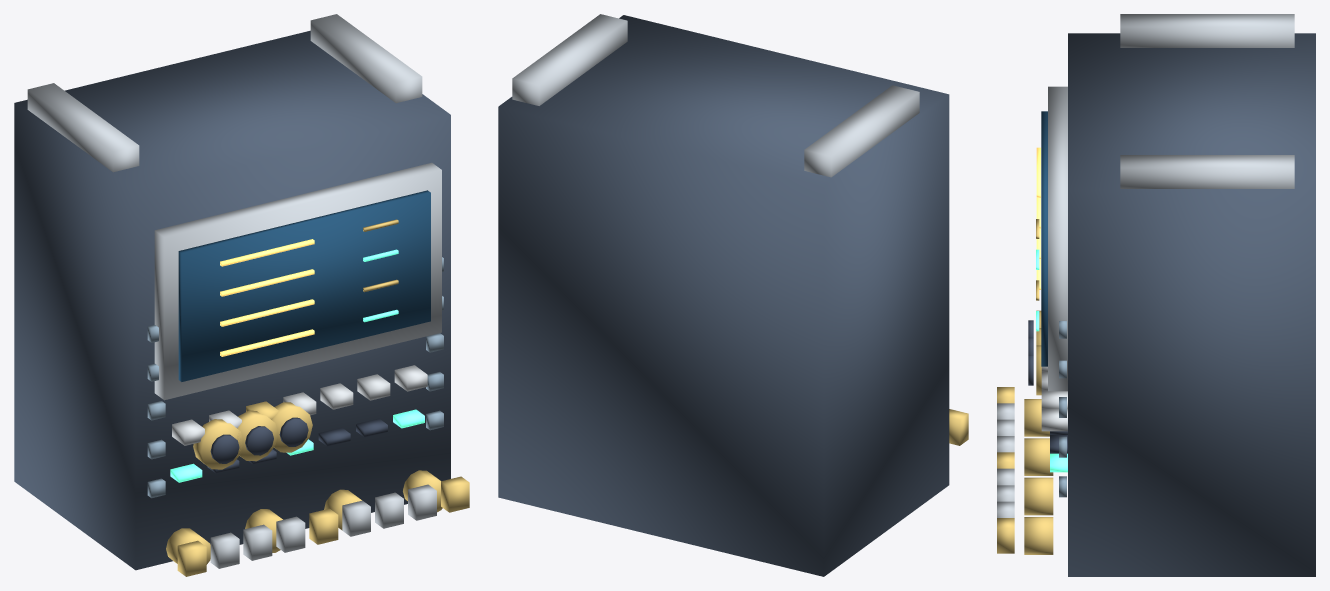
Rendered from 69_L85_CriticalClosingRateFeedbackStation.glb.
3 renders of one model, left to right at view 1: azimuth 30°, elevation 25°; view 2: azimuth 150°, elevation 25°; view 3: azimuth 270°, elevation 25°, orthographic. The views are drawn at different scales.
Parts seen in each view (by area): view 1: L85_CriticalClosingRateFeedba_Part_0000, L85_CriticalClosingRateFeedba_Part_0001, L85_CriticalClosingRateFeedba_Part_0002, L85_CriticalClosingRateFeedba_Part_0004, L85_CriticalClosingRateFeedba_Part_0006, L85_CriticalClosingRateFeedba_Part_0003, L85_CriticalClosingRateFeedba_Part_0008, L85_CriticalClosingRateFeedba_Part_0005, L85_CriticalClosingRateFeedba_Part_0007, L85_CriticalClosingRateFeedba_Part_0010, L85_CriticalClosingRateFeedba_Part_0012, L85_CriticalClosingRateFeedba_Part_0014 (+3 smaller); view 2: L85_CriticalClosingRateFeedba_Part_0000, L85_CriticalClosingRateFeedba_Part_0001, L85_CriticalClosingRateFeedba_Part_0004; view 3: L85_CriticalClosingRateFeedba_Part_0000, L85_CriticalClosingRateFeedba_Part_0001, L85_CriticalClosingRateFeedba_Part_0004, L85_CriticalClosingRateFeedba_Part_0002, L85_CriticalClosingRateFeedba_Part_0006, L85_CriticalClosingRateFeedba_Part_0008, L85_CriticalClosingRateFeedba_Part_0003, L85_CriticalClosingRateFeedba_Part_0005.
Part boxes in pixels (x1,y1,x2,y2): L85_CriticalClosingRateFeedba_Part_0000: (14,30,450,570); L85_CriticalClosingRateFeedba_Part_0001: (27,14,441,568); L85_CriticalClosingRateFeedba_Part_0002: (178,190,430,381); L85_CriticalClosingRateFeedba_Part_0004: (166,219,469,576); L85_CriticalClosingRateFeedba_Part_0006: (172,365,427,445); L85_CriticalClosingRateFeedba_Part_0003: (220,239,314,356); L85_CriticalClosingRateFeedba_Part_0008: (147,257,443,498); L85_CriticalClosingRateFeedba_Part_0005: (170,249,424,482); L85_CriticalClosingRateFeedba_Part_0007: (207,418,387,473); L85_CriticalClosingRateFeedba_Part_0010: (193,419,243,469); L85_CriticalClosingRateFeedba_Part_0012: (237,410,278,461); L85_CriticalClosingRateFeedba_Part_0014: (272,402,312,452); L85_CriticalClosingRateFeedba_Part_0000: (498,15,949,576); L85_CriticalClosingRateFeedba_Part_0001: (512,14,919,177); L85_CriticalClosingRateFeedba_Part_0004: (949,409,968,445); L85_CriticalClosingRateFeedba_Part_0000: (1068,33,1315,576); L85_CriticalClosingRateFeedba_Part_0001: (997,14,1294,517); L85_CriticalClosingRateFeedba_Part_0004: (997,219,1053,554); L85_CriticalClosingRateFeedba_Part_0002: (1041,111,1047,366); L85_CriticalClosingRateFeedba_Part_0006: (1041,366,1067,431); L85_CriticalClosingRateFeedba_Part_0008: (1059,321,1066,497); L85_CriticalClosingRateFeedba_Part_0003: (1036,147,1040,289); L85_CriticalClosingRateFeedba_Part_0005: (1036,249,1067,472).
Bounding box in the file's own units: 0.9588 × 1.16 × 0.8221.
